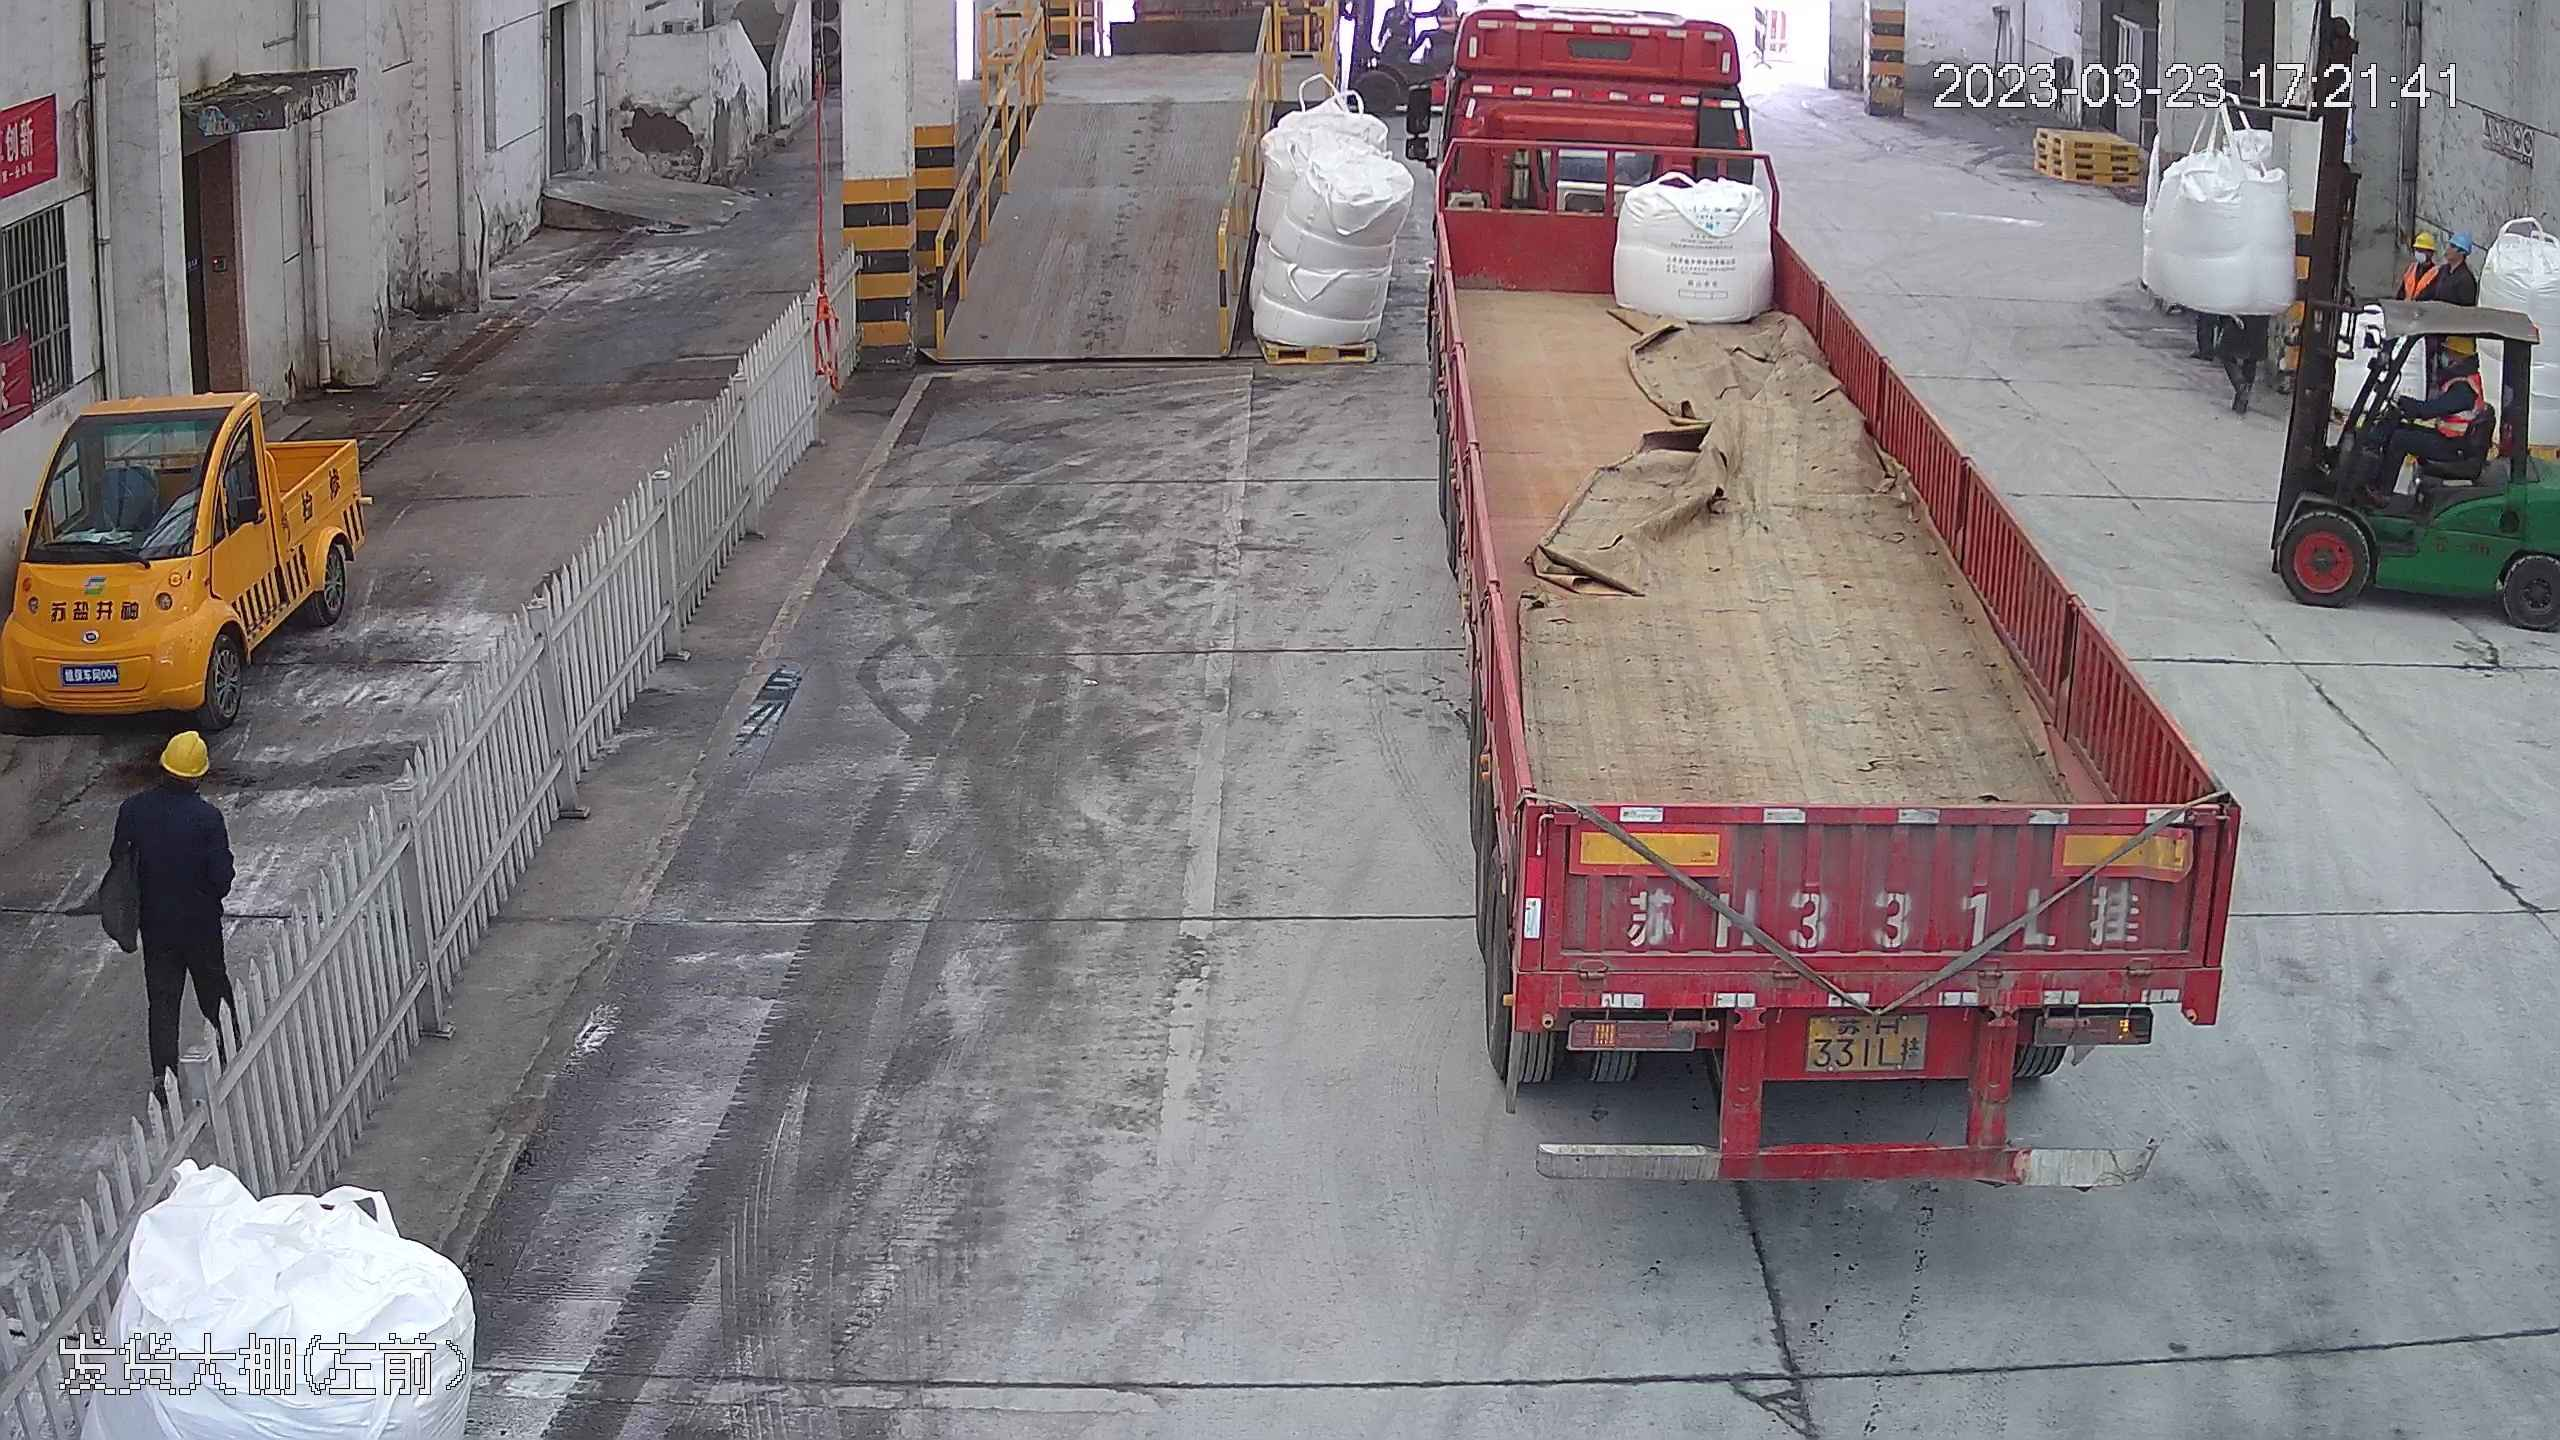head: (119, 726, 226, 831), (2428, 334, 2487, 405), (2402, 231, 2456, 285), (2436, 229, 2479, 295)
helmet: (157, 727, 214, 778), (2443, 333, 2480, 357), (2449, 230, 2475, 254), (2412, 228, 2439, 250)
people: (100, 726, 243, 1098), (2374, 336, 2489, 499)
truck: (1409, 8, 2255, 1191)
